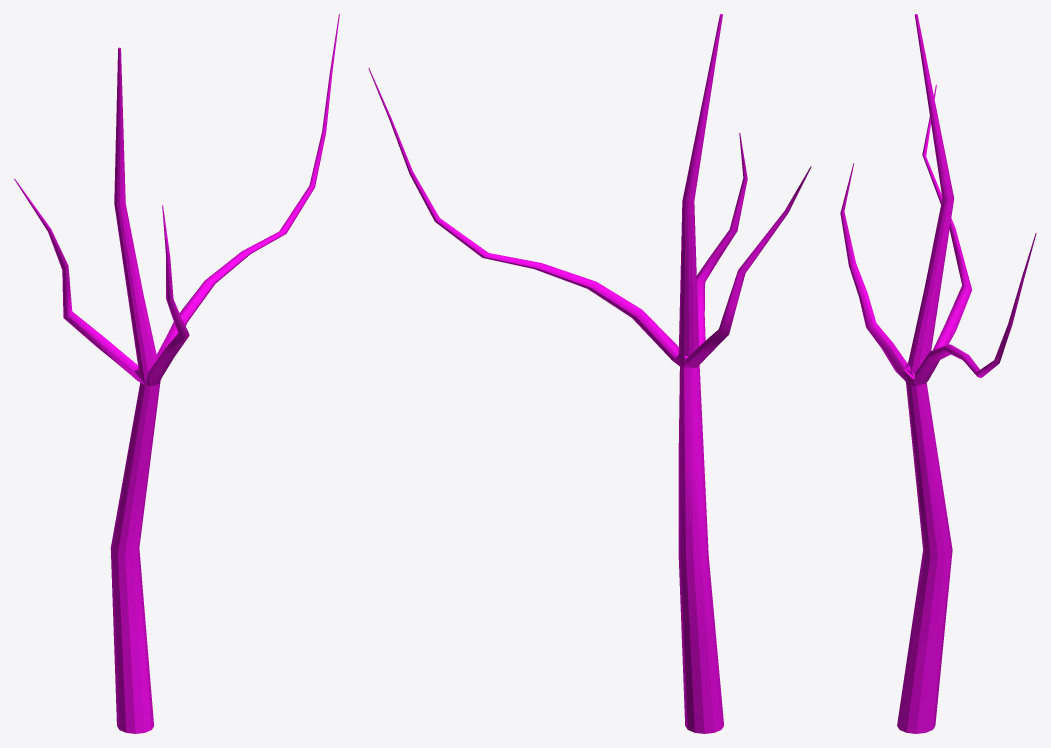
The model's file is Tree.fbx.
The picture shows the model from 3 angles, left to right: view 1: azimuth 30°, elevation 25°; view 2: azimuth 150°, elevation 25°; view 3: azimuth 270°, elevation 25°; orthographic projection. The views are drawn at different scales.
Parts seen in each view (by area): view 1: Tree; view 2: Tree; view 3: Tree.
Part boxes in pixels (left/top/right/bottom): Tree: left=14, top=14, right=339, bottom=733; Tree: left=368, top=14, right=811, bottom=733; Tree: left=840, top=14, right=1036, bottom=733.
Bounding box in the file's own units: 3.4 × 5.93 × 1.5.
